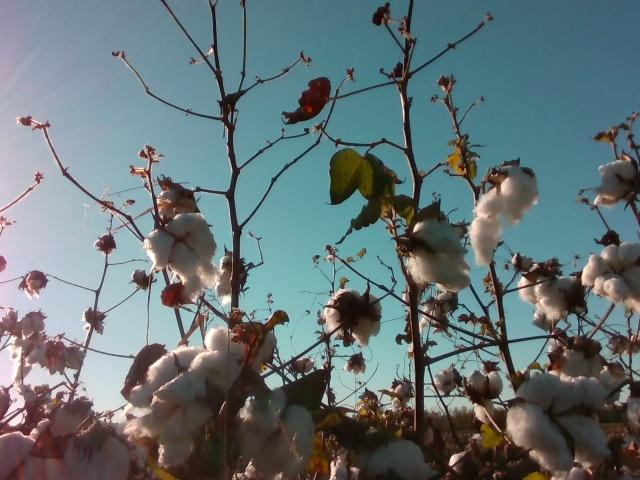cotton_ready: (508, 370, 610, 471), (125, 376, 215, 468), (147, 327, 278, 388), (471, 164, 540, 268), (146, 212, 224, 302), (237, 391, 314, 479), (408, 214, 473, 291), (0, 418, 66, 480), (581, 241, 640, 303), (59, 434, 132, 480), (325, 289, 383, 346), (359, 440, 439, 480), (596, 158, 640, 206), (548, 341, 602, 378), (538, 278, 584, 320), (469, 368, 504, 395), (519, 271, 547, 304)
